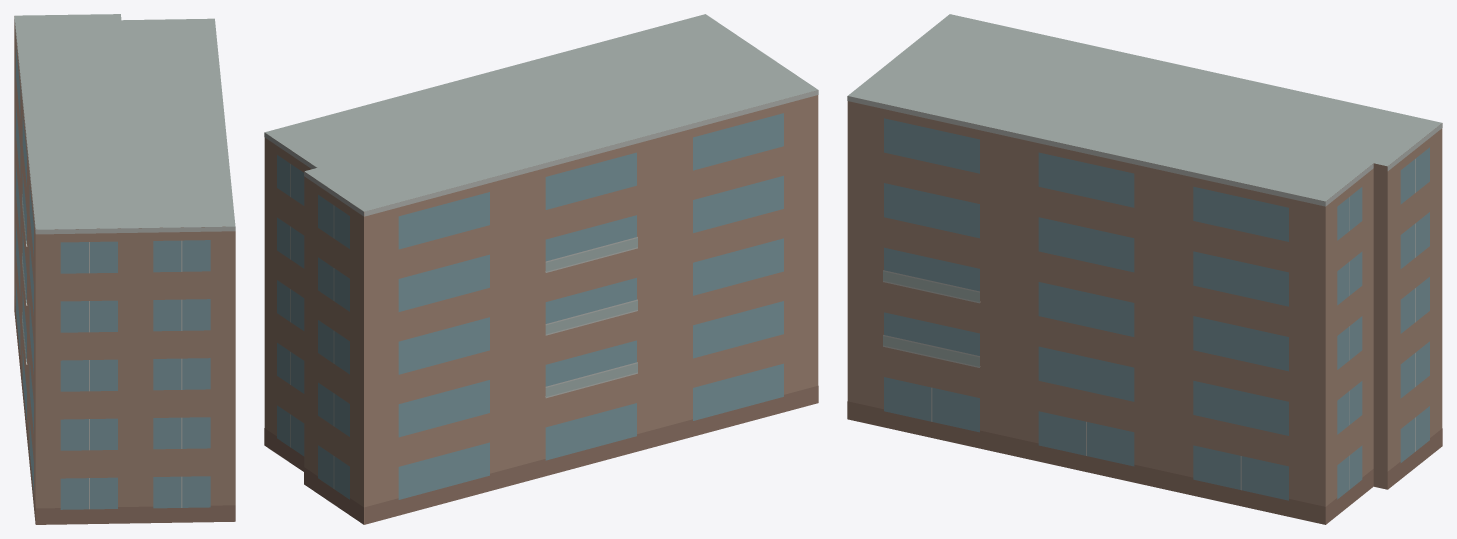
Rendered from survey-upis-32532357.glb.
3 renders of one model, left to right at view 1: azimuth 30°, elevation 25°; view 2: azimuth 150°, elevation 25°; view 3: azimuth 270°, elevation 25°, orthographic. The views are drawn at different scales.
Parts seen in each view (by area): view 1: survey-upis-32532357.tmp; view 2: survey-upis-32532357.tmp; view 3: survey-upis-32532357.tmp.
Boxes of the visible parts, left/top/right/bottom form: survey-upis-32532357.tmp: left=14, top=14, right=235, bottom=524; survey-upis-32532357.tmp: left=264, top=14, right=818, bottom=524; survey-upis-32532357.tmp: left=847, top=14, right=1442, bottom=524.
Size of the model in its own units: 19.16 by 15.4 by 25.68.
